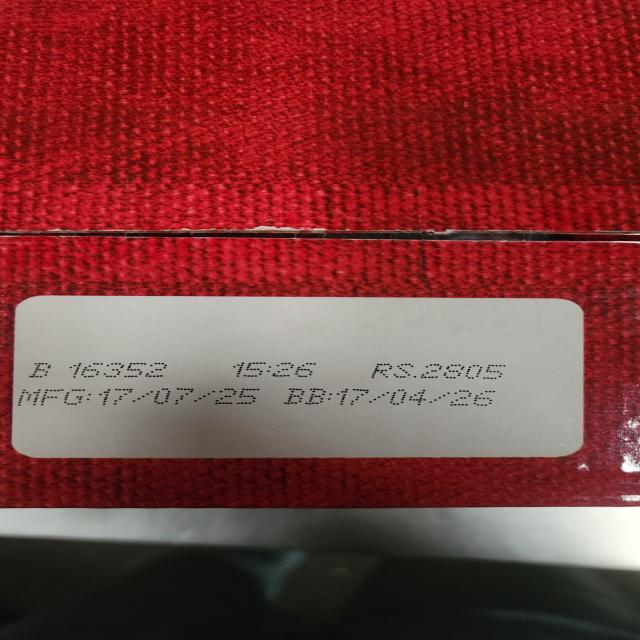BB: (287, 385, 508, 411)
Batch: (24, 355, 178, 382)
MFG: (19, 387, 271, 411)
RS: (370, 358, 510, 384)
TimeStamp: (229, 357, 324, 381)
